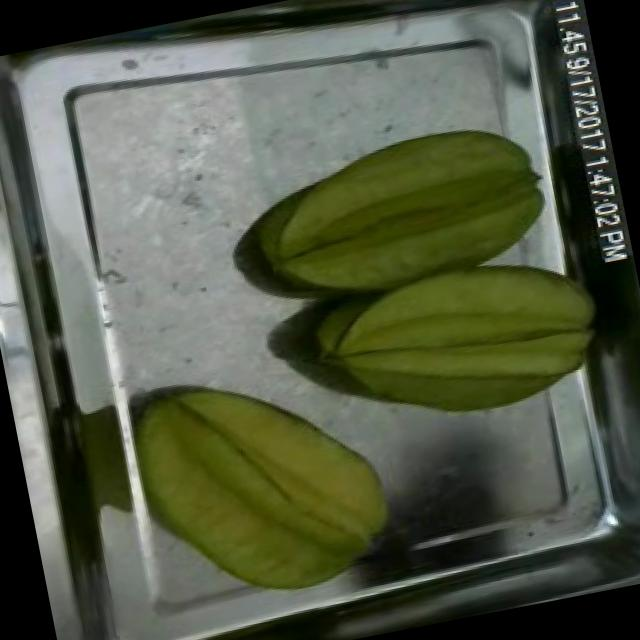fruit: (108, 332, 422, 635), (224, 97, 572, 336), (286, 225, 620, 460)
